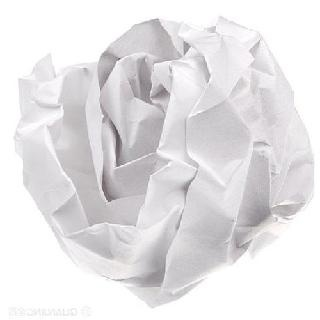8/可回收垃圾/纸: (13, 16, 315, 309)
